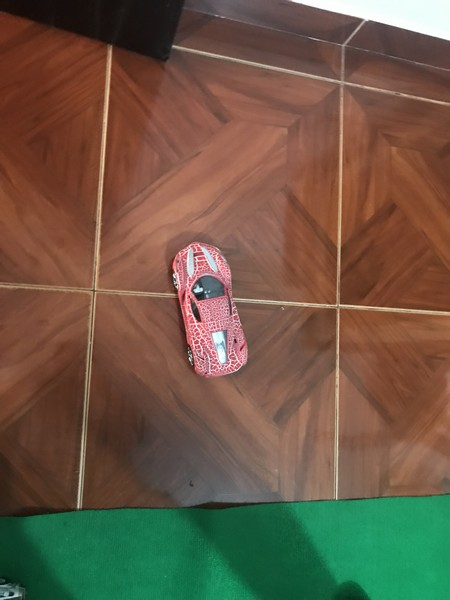RC: (168, 241, 250, 380)
